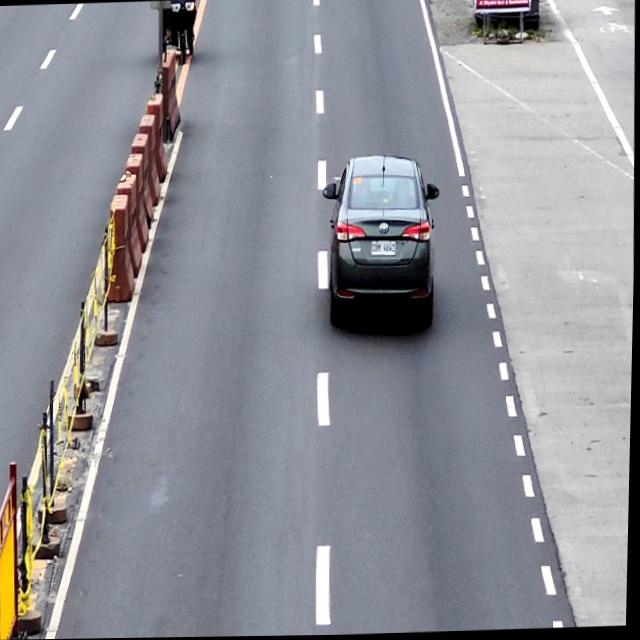License-Plate: (370, 238, 397, 260)
Motorcycle: (325, 155, 440, 331)
